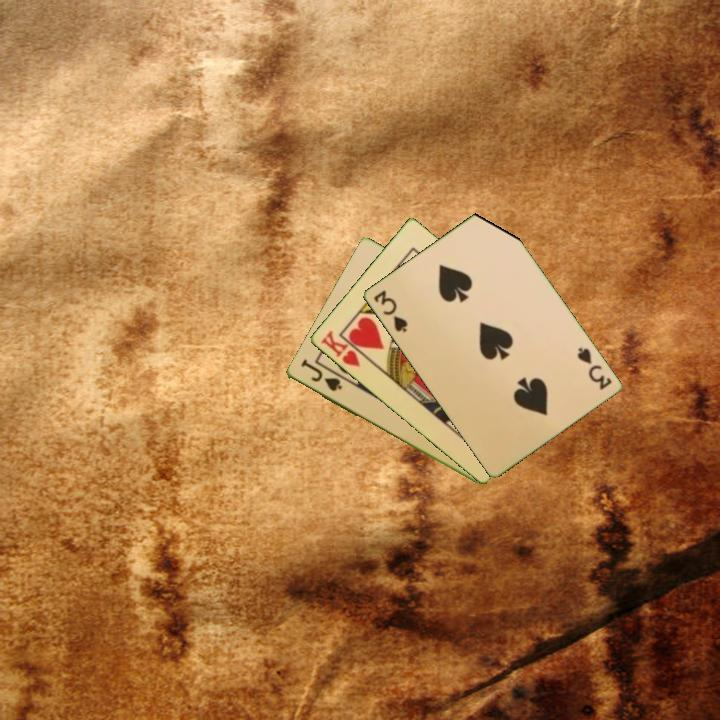3s: (573, 343, 614, 393), (370, 286, 410, 335)
Js: (297, 357, 345, 394)
Kh: (317, 327, 371, 370)
